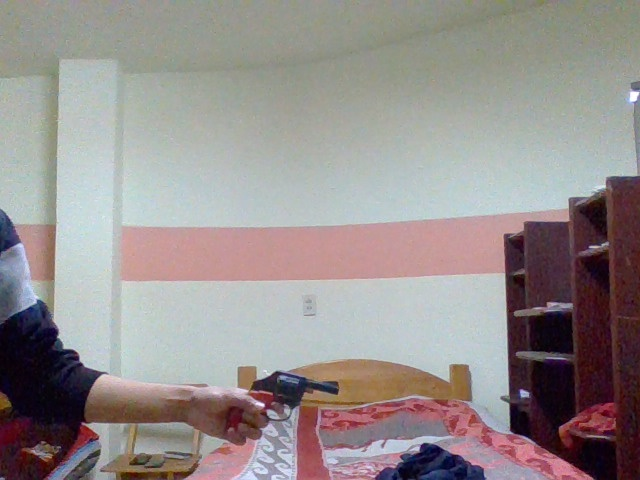pistola: (221, 366, 350, 443)
